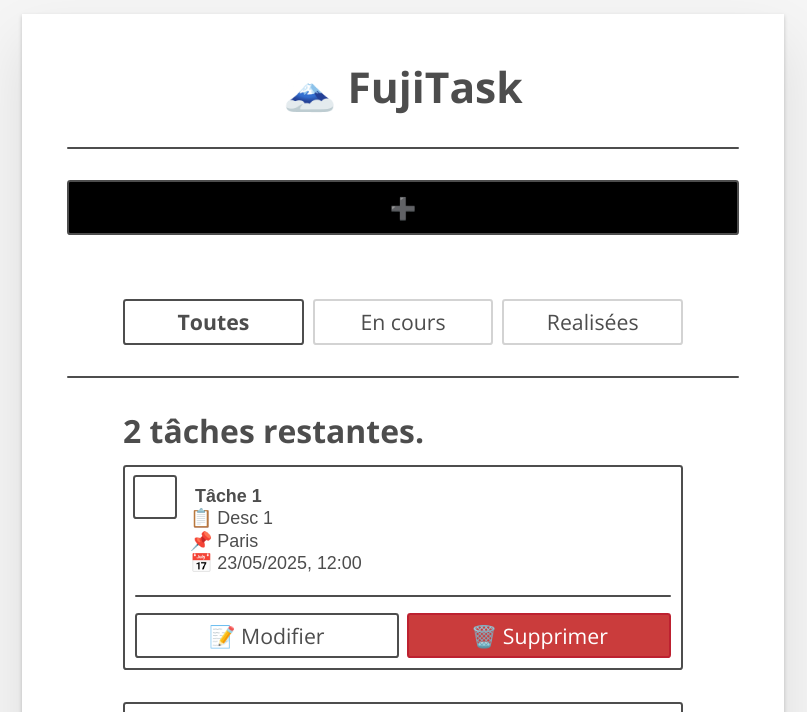
Test: App intégration › affiche la liste et permet de filtrer
Expected: the text "Tâche 1" is shown, [190, 486, 262, 506]
Click the button "En cours": (403, 322) [313, 299, 493, 345]
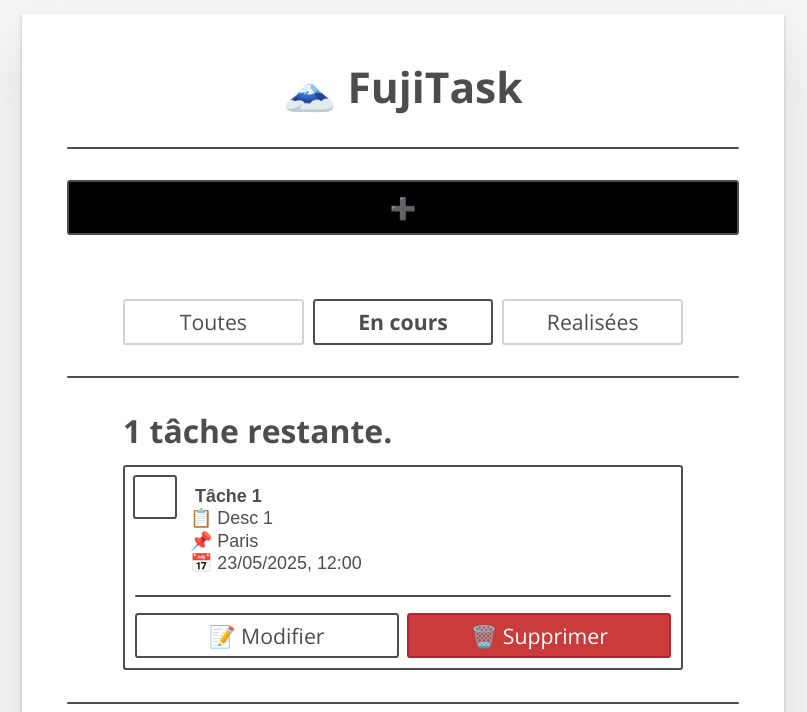
Expected: the text "Tâche 1" is shown, [190, 486, 262, 506]
Click the button "Realisées": (593, 322) [502, 299, 683, 345]
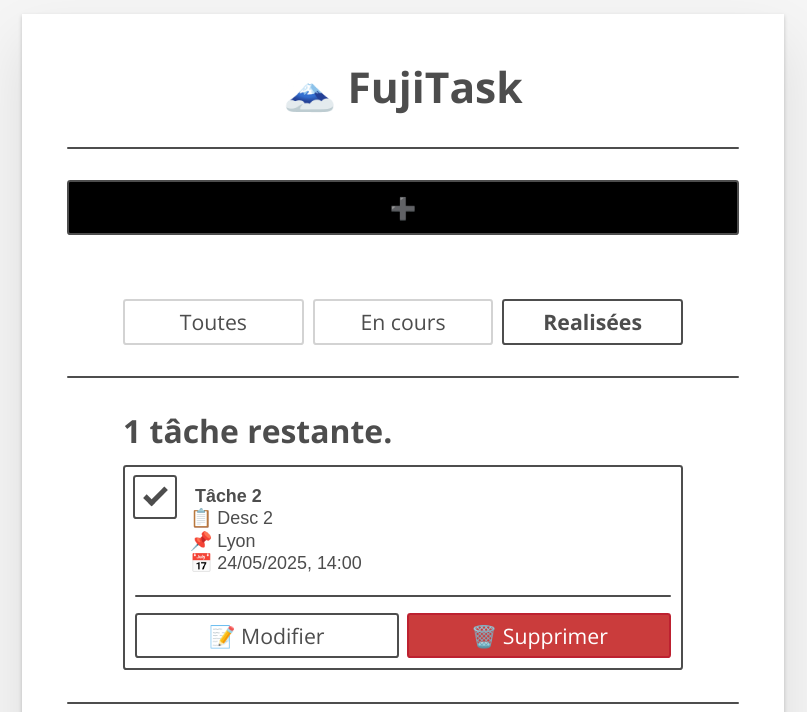
Expected: the text "Tâche 2" is shown, [190, 486, 262, 506]
Expected: the text "Tâche 1" is gone
